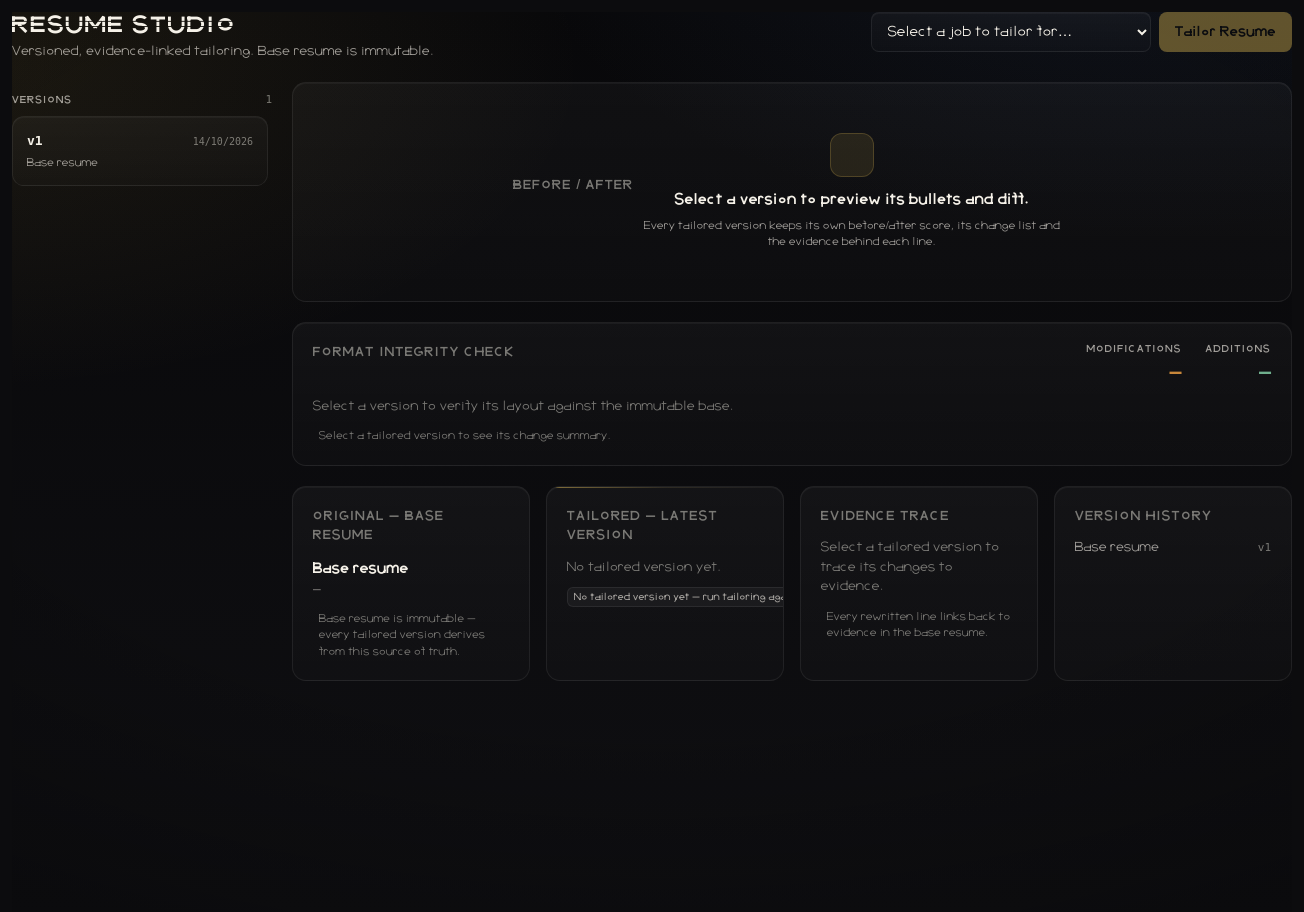
Test: U2b — format-fidelity honesty in Resume Studio › shows the API's own honest re-flow note for a low-confidence version, not a generic hard-coded string
Click the button with test id "resume-version-card": (140, 151) [12,116,268,186]
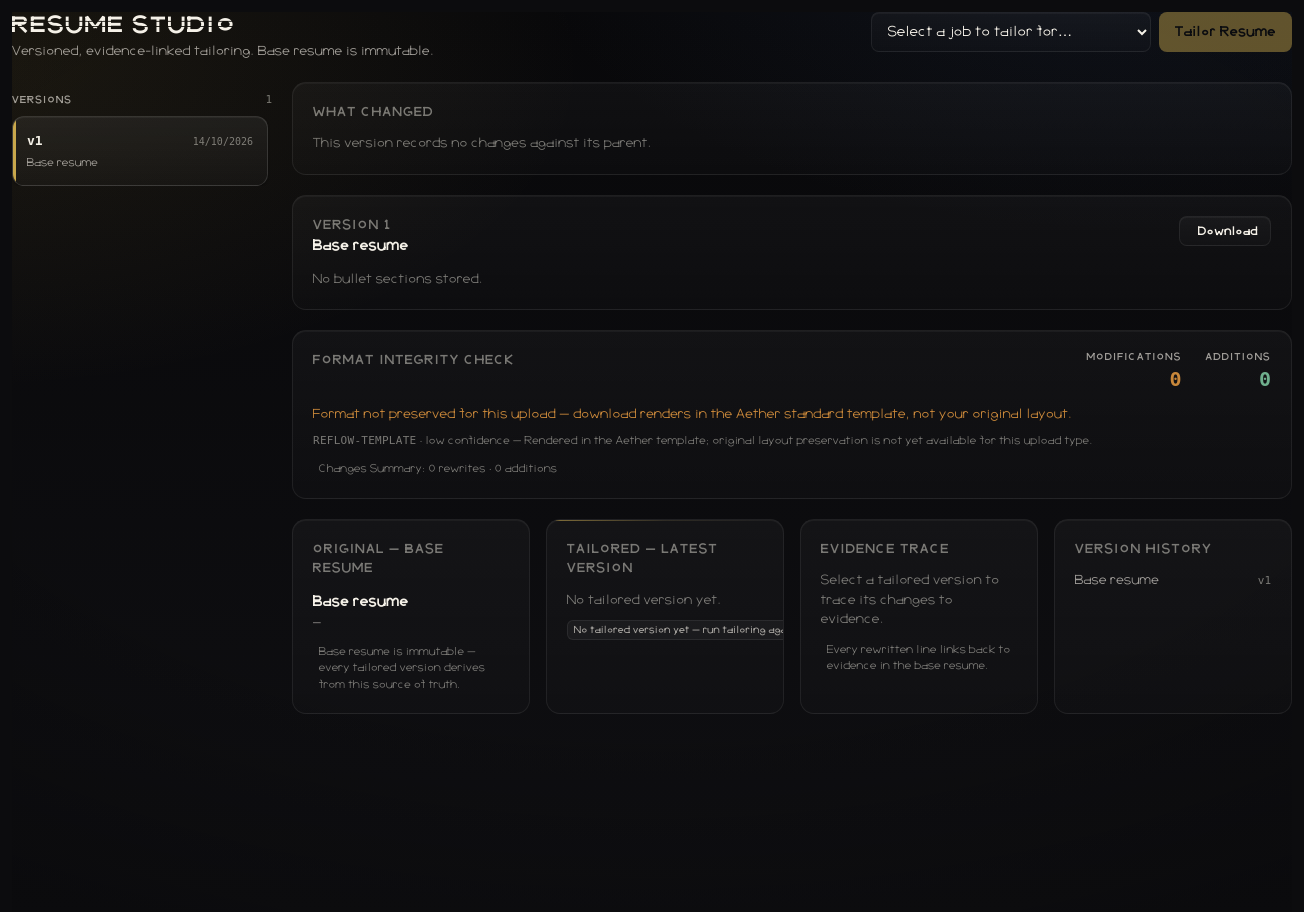
Now the element with test id "format-fidelity-detail" shows "Aether template", box [525,435,1093,446]
Now the element with test id "format-fidelity-detail" shows "not yet available", box [525,435,1093,446]
